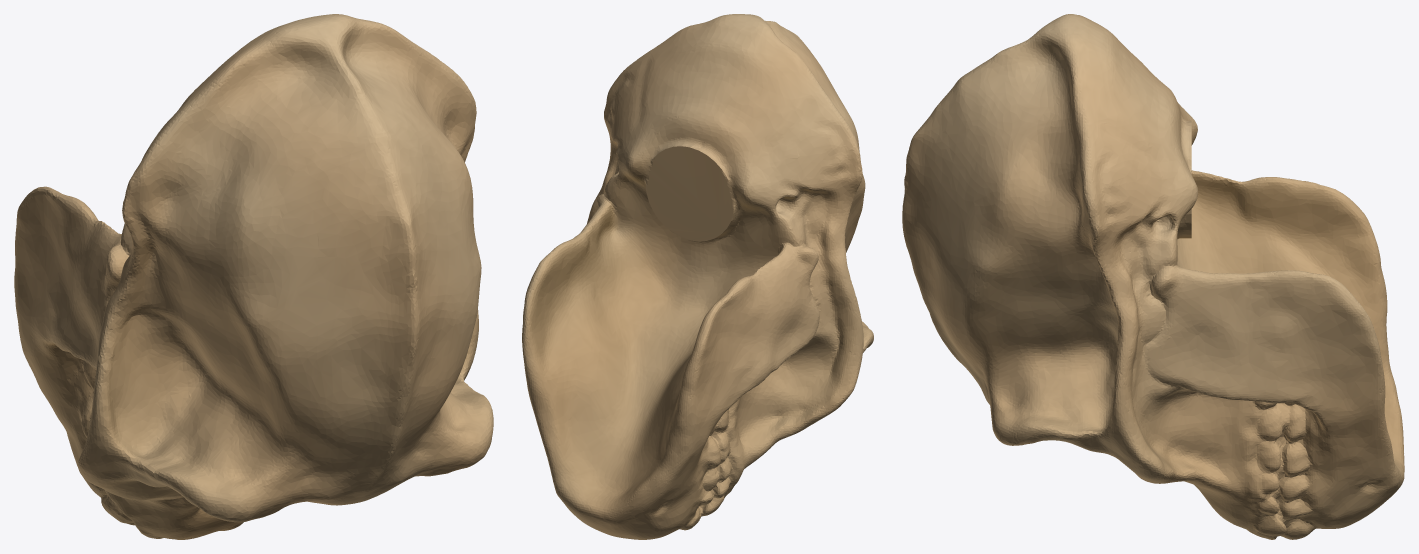
File: anamensis.glb
The picture shows the model from 3 angles, left to right: view 1: azimuth 30°, elevation 25°; view 2: azimuth 150°, elevation 25°; view 3: azimuth 270°, elevation 25°; orthographic projection. The views are drawn at different scales.
Bounding box in the file's own units: 30.25 × 45.13 × 40.68.
